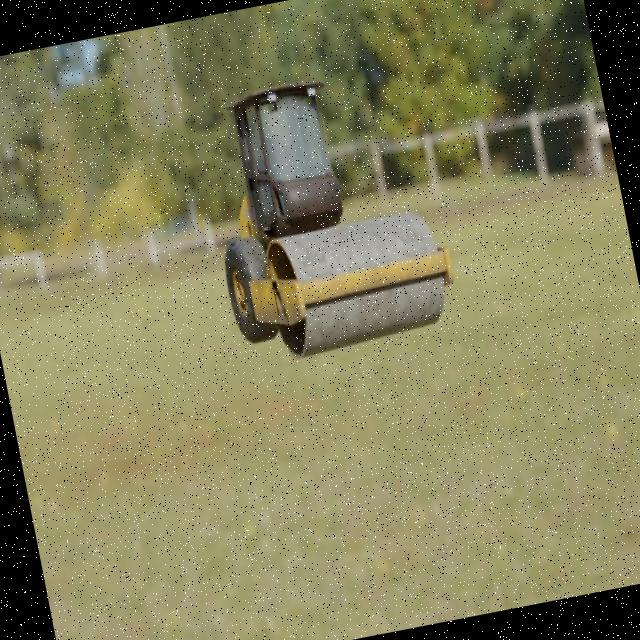Roller: (191, 58, 464, 370)
